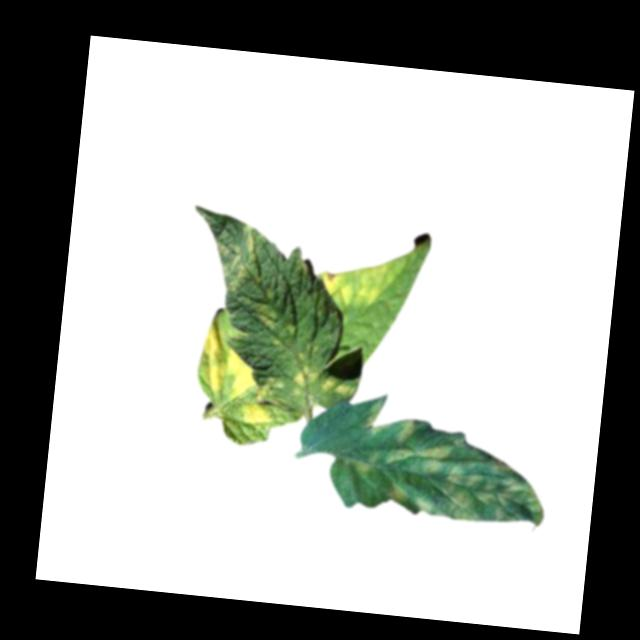Leaf_Mold: (346, 417, 552, 527), (189, 324, 281, 427), (314, 244, 408, 311), (211, 219, 265, 292), (292, 365, 356, 399)
